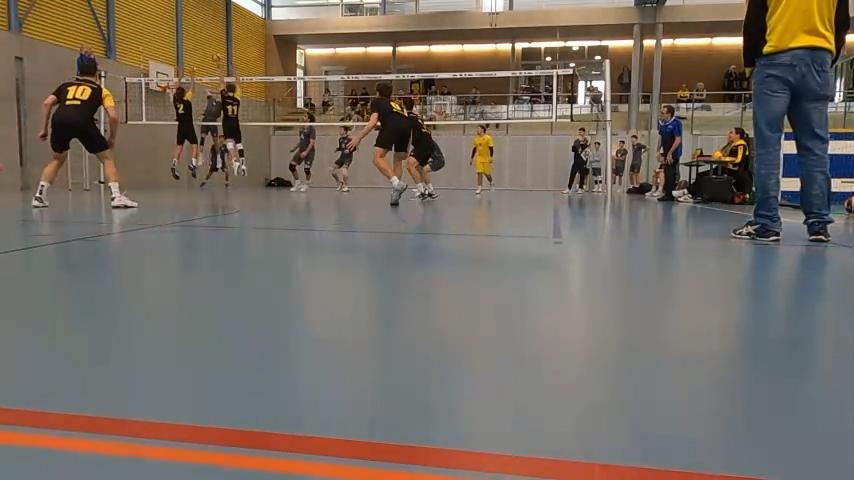attacco: (198, 71, 227, 170)
muro: (210, 58, 250, 184), (164, 65, 203, 185)
